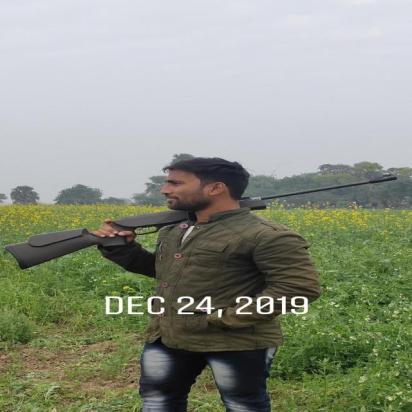Gun: (3, 173, 399, 271)
